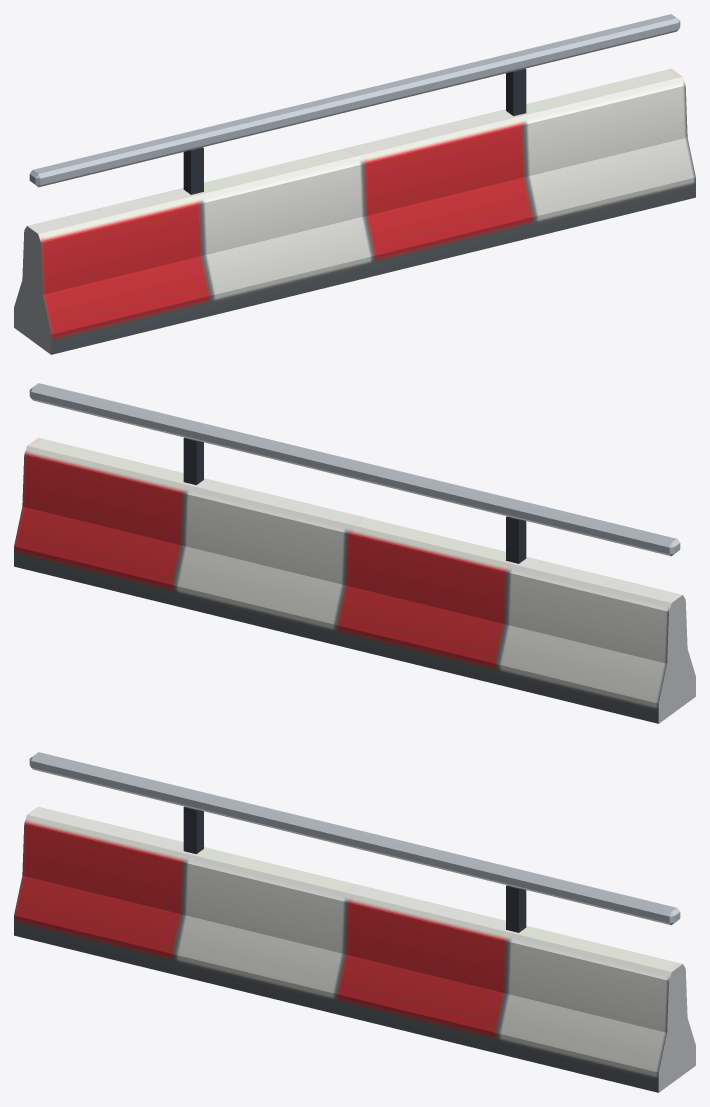
File: barrier.glb
3 renders of one model, top to bottom at view 1: azimuth 30°, elevation 25°; view 2: azimuth 150°, elevation 25°; view 3: azimuth 330°, elevation 25°, orthographic.
Parts seen in each view (by area): view 1: barrier; view 2: barrier; view 3: barrier.
Boxes of the visible parts, <box> form: barrier: <box>14,14,695,354</box>; barrier: <box>14,383,695,723</box>; barrier: <box>14,752,695,1092</box>.
Bounding box in the file's own units: 4 × 1 × 0.4.
1 material, 1 textured.
